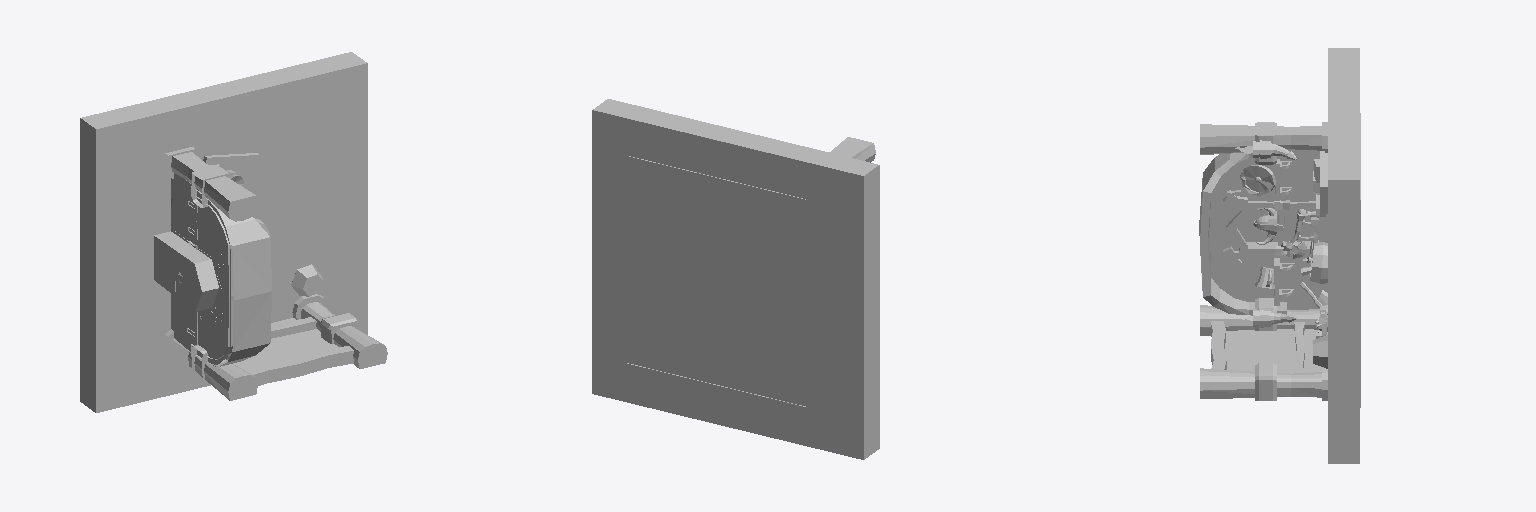
The model's file is wall1.obj.
3 renders of one model, left to right at view 1: azimuth 30°, elevation 25°; view 2: azimuth 150°, elevation 25°; view 3: azimuth 270°, elevation 25°, orthographic.
Visible parts, largest first — view 1: Cube, mesh_all1_Texture1_0; view 2: Cube, mesh_all1_Texture1_0; view 3: mesh_all1_Texture1_0, Cube.
Part boxes in pixels (left/top/right/bottom): Cube: left=80, top=52, right=367, bottom=412; mesh_all1_Texture1_0: left=154, top=147, right=387, bottom=400; Cube: left=592, top=99, right=879, bottom=459; mesh_all1_Texture1_0: left=627, top=137, right=875, bottom=406; mesh_all1_Texture1_0: left=1199, top=113, right=1360, bottom=407; Cube: left=1328, top=48, right=1359, bottom=463.
Size of the model in its own units: 2 by 2 by 1.03.